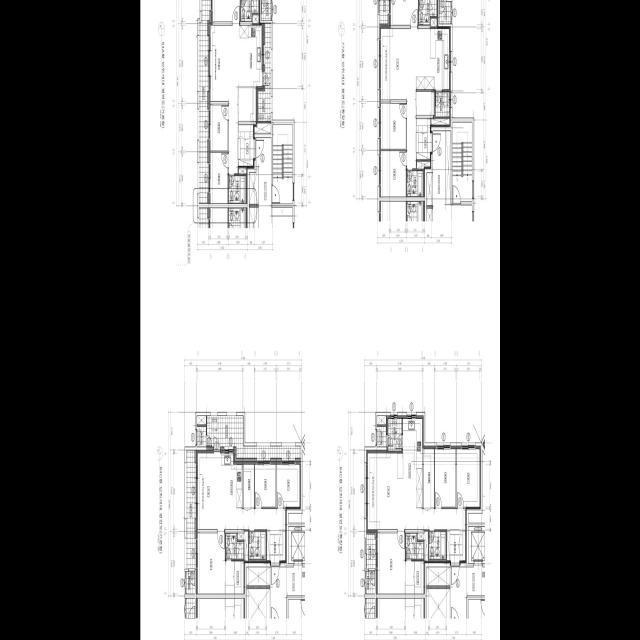background: (140, 0, 500, 640)
space_balconi: (207, 416, 300, 461), (199, 0, 210, 204), (258, 24, 271, 121), (186, 451, 196, 569), (386, 416, 402, 451), (435, 92, 449, 117), (366, 534, 376, 569), (379, 0, 389, 24)
space_bedroom: (270, 567, 305, 619), (196, 533, 225, 594), (376, 533, 405, 594), (457, 446, 480, 509), (434, 446, 455, 507), (380, 103, 406, 149), (381, 151, 406, 197), (277, 461, 300, 509), (255, 461, 275, 507), (209, 153, 227, 204), (209, 105, 227, 151), (390, 0, 418, 25), (211, 0, 240, 22)
space_dressroom: (225, 561, 244, 594), (405, 561, 424, 594)
space_elevator_hall: (450, 567, 485, 619), (256, 138, 271, 208), (433, 131, 445, 205)
space_front: (238, 125, 255, 166), (446, 530, 460, 566), (267, 531, 280, 566), (416, 132, 432, 160)
space_kitchen: (395, 415, 423, 509), (416, 29, 449, 90), (239, 25, 263, 86), (220, 450, 242, 509)
space_living_room: (366, 450, 466, 533), (196, 450, 286, 530), (380, 29, 416, 168), (209, 25, 239, 174)
space_other: (246, 589, 270, 619), (426, 589, 450, 619), (423, 446, 434, 508), (238, 88, 257, 122), (243, 461, 254, 507), (246, 567, 270, 586), (426, 567, 450, 586), (416, 92, 434, 115), (446, 131, 451, 205), (249, 167, 258, 204), (237, 532, 248, 561), (417, 532, 428, 561), (439, 0, 450, 24), (366, 569, 375, 594), (459, 531, 466, 563), (261, 0, 271, 20), (186, 572, 195, 594), (280, 531, 286, 563), (426, 173, 432, 205), (254, 123, 271, 133), (416, 119, 430, 131), (431, 119, 449, 125), (417, 162, 430, 169), (197, 416, 206, 425), (377, 416, 386, 425), (238, 168, 246, 174), (252, 15, 258, 23), (430, 19, 436, 27)
space_outdoor_room: (197, 427, 206, 447), (377, 427, 386, 447)
space_staircase: (452, 122, 472, 202), (273, 124, 292, 204)
space_toilet: (429, 531, 446, 560), (249, 532, 266, 560), (228, 176, 245, 203), (226, 533, 243, 560), (406, 533, 423, 559), (419, 0, 436, 25), (407, 171, 423, 197), (240, 0, 258, 22)
